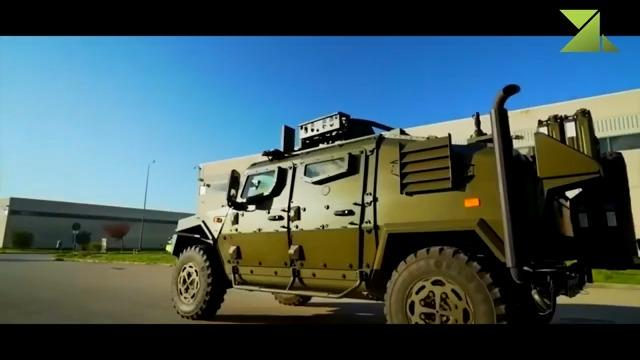MIL_HMMWV: (165, 85, 639, 323)
